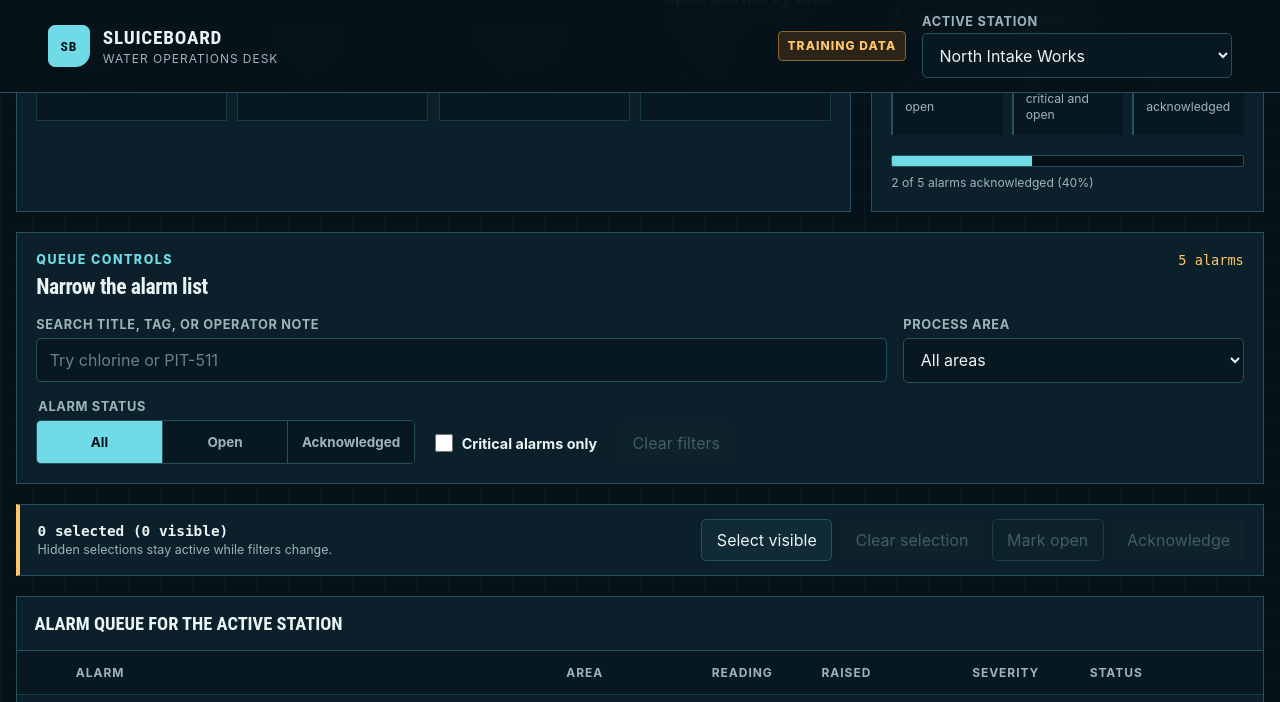
Test: Sluiceboard › resets station-scoped controls when switching stations
The width and height of the screenshot is (1280, 702).
(page scrolled)
Type "screen" into the search field labelled "Search title, tag, or operator note" at (462, 360), box [36,338,887,382]
(page scrolled)
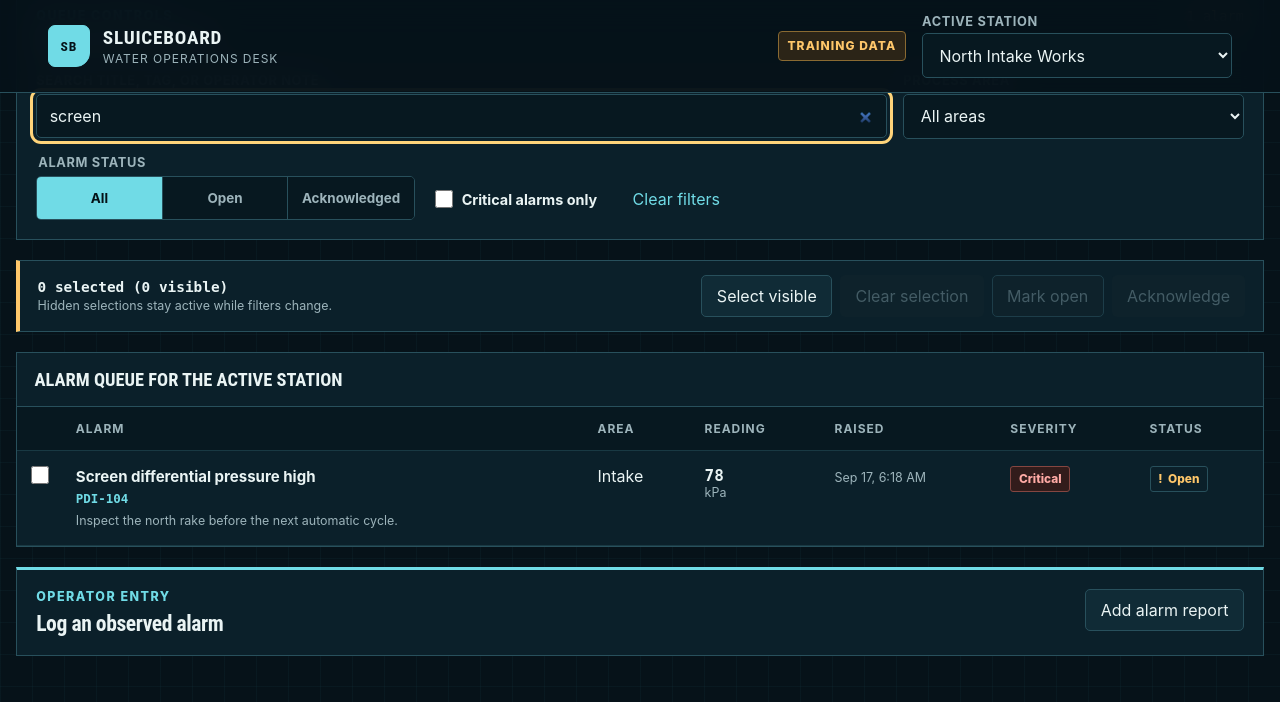
Click the checkbox named "Select Screen differential pressure high (PDI-104)" at (40, 475), box [31,466,49,484]
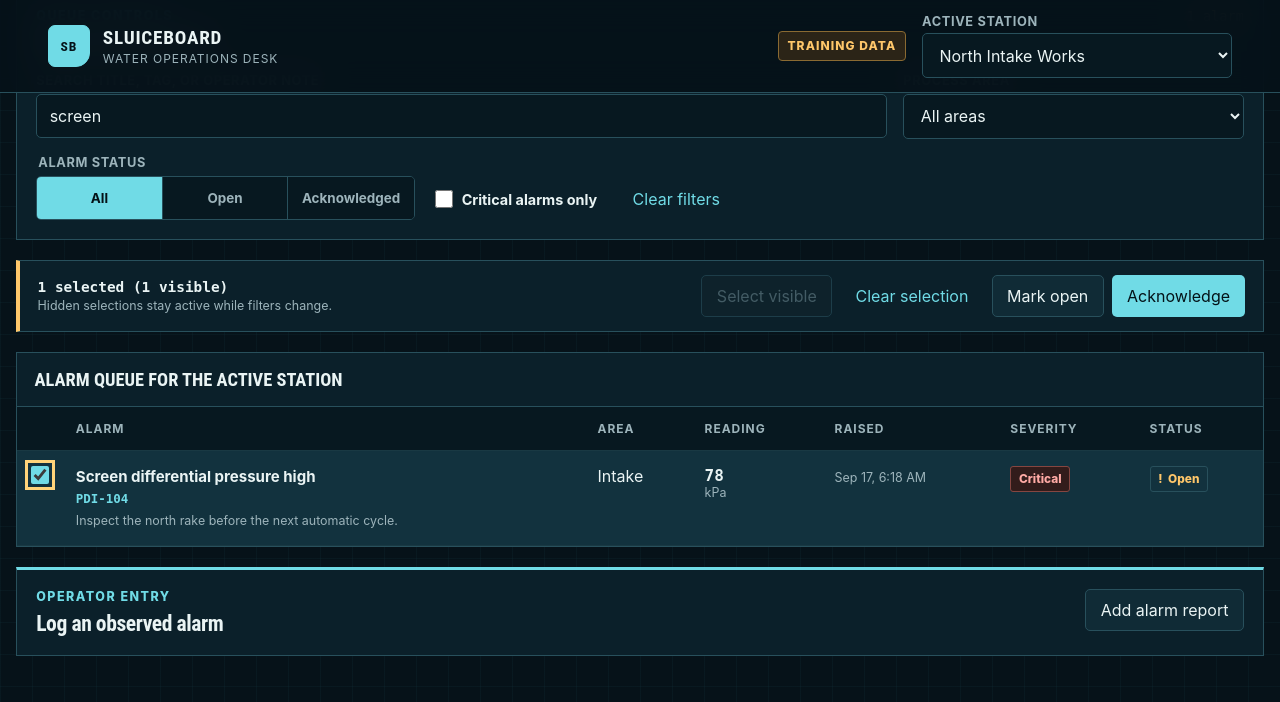
Select "East Clarifier Hall" in the dropdown labelled "Active station" at (1077, 56), box [922,33,1232,78]
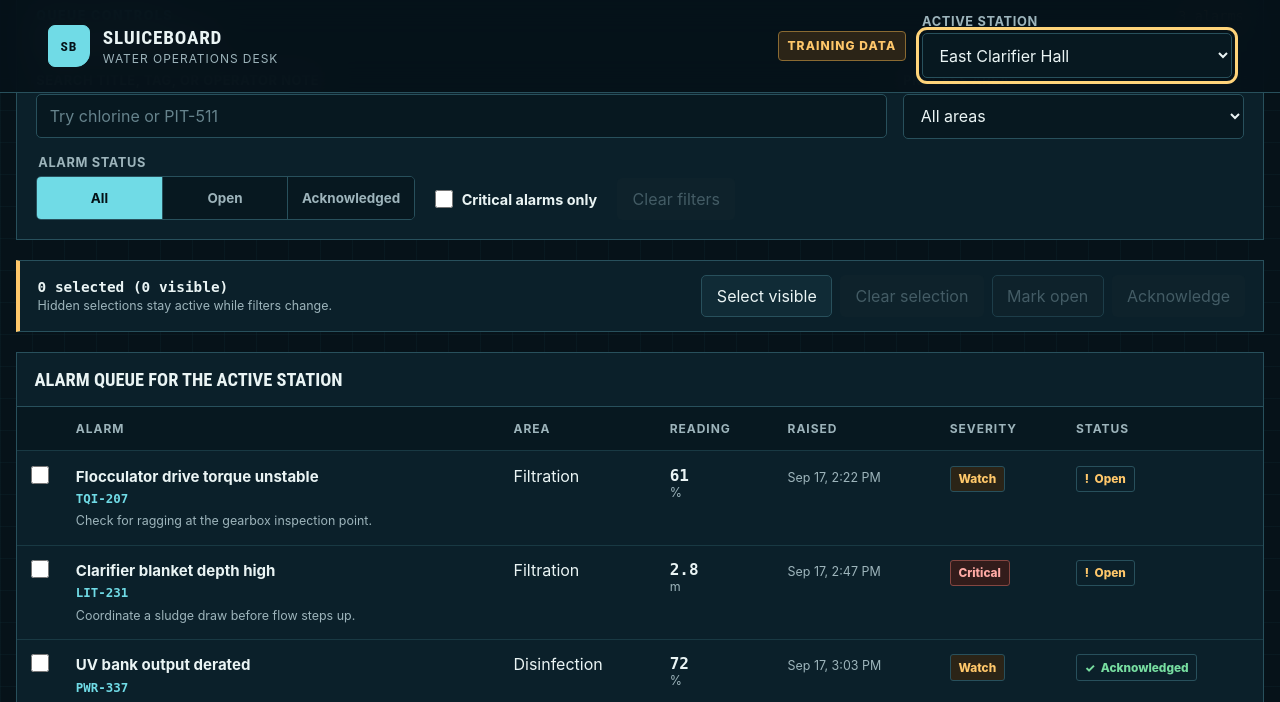
Expected: the search field labelled "Search title, tag, or operator note" is empty, [36,94,887,138]
Expected: the text "0 selected (0 visible)" is shown, [38,279,228,295]
